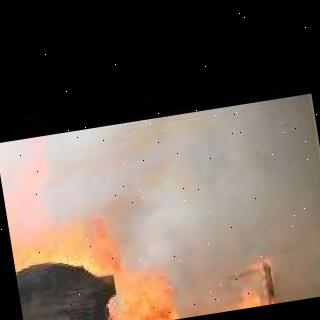fire: (1, 135, 307, 320)
